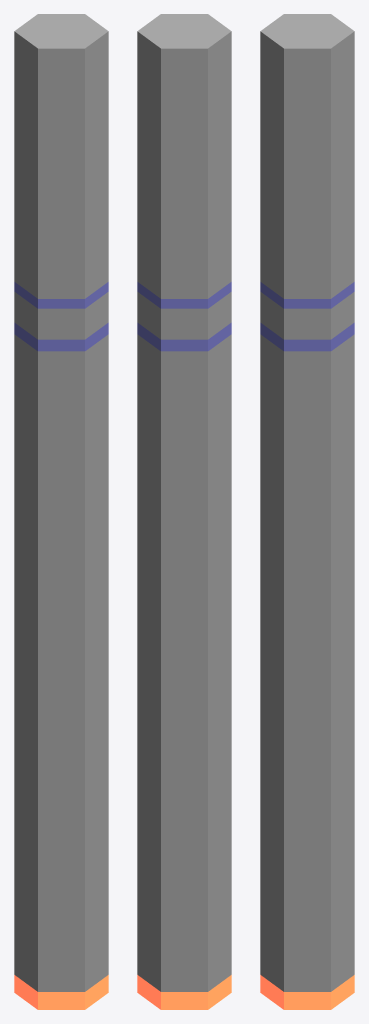
File: lit_cig.glb
3 renders of one model, left to right at view 1: azimuth 30°, elevation 25°; view 2: azimuth 150°, elevation 25°; view 3: azimuth 330°, elevation 25°, orthographic.
Parts seen in each view (by area): view 1: body, bands, lit end, burnt end; view 2: body, bands, lit end, burnt end; view 3: body, bands, lit end, burnt end.
Boxes of the visible parts, x1,y1,x2,y2 form: body: [14, 14, 108, 982]; bands: [14, 282, 108, 351]; lit end: [14, 975, 108, 1009]; burnt end: [14, 965, 108, 991]; body: [137, 14, 231, 982]; bands: [137, 282, 231, 351]; lit end: [137, 975, 231, 1009]; burnt end: [137, 965, 231, 991]; body: [260, 14, 354, 982]; bands: [260, 282, 354, 351]; lit end: [260, 975, 354, 1009]; burnt end: [260, 965, 354, 991].
Bounding box in the file's own units: 0.0104 × 0.135 × 0.012.
